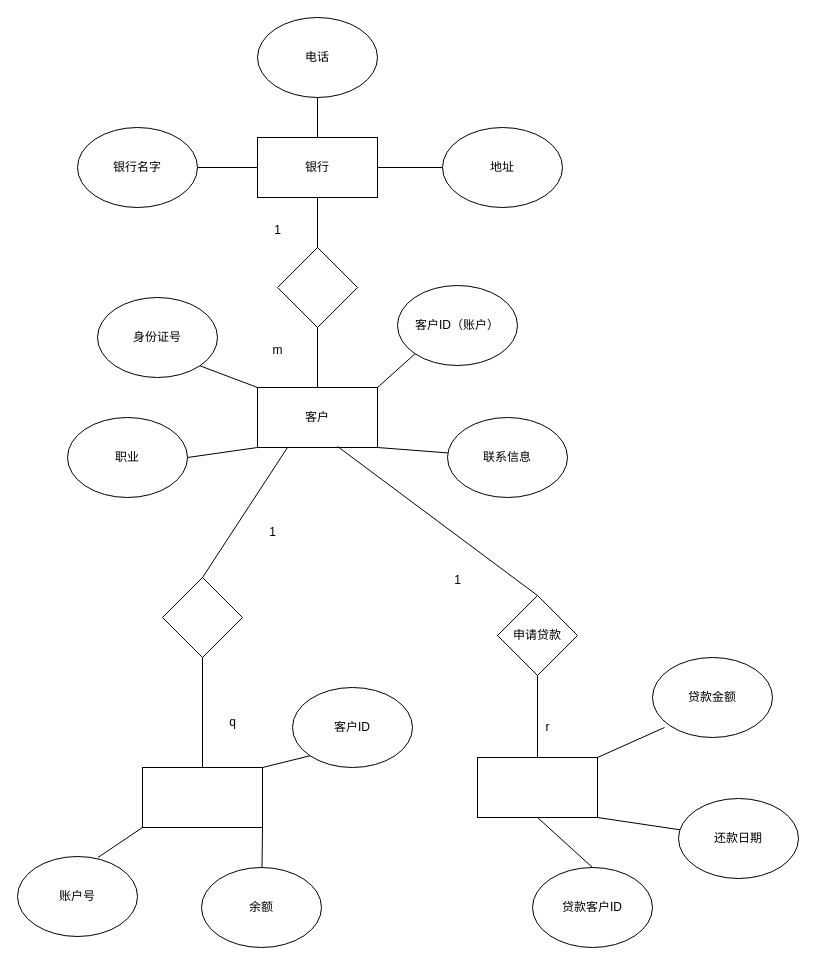
This 816x965 diagram has some shape labels left out. The centre of each missing label's shape, as x and y in pixels:
"拥有客户" belongs at point (317, 287).
"拥有账户" belongs at point (202, 617).
"账户" belongs at point (202, 797).
"贷款" belongs at point (537, 787).
